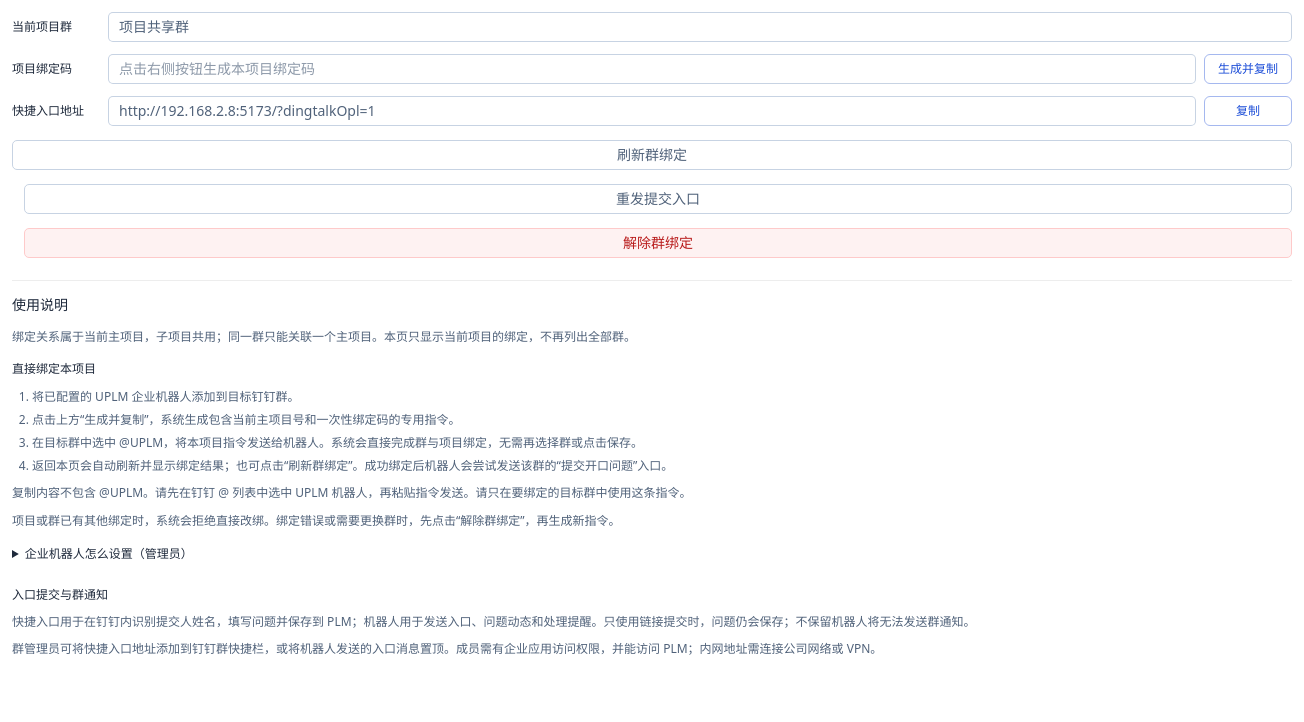
Scenario: generates a project command without exposing or resubmitting its credentials
The width and height of the screenshot is (1304, 722).
Step 1. Click the button "生成并复制" → point(1248, 69), box [1204,54,1292,84]
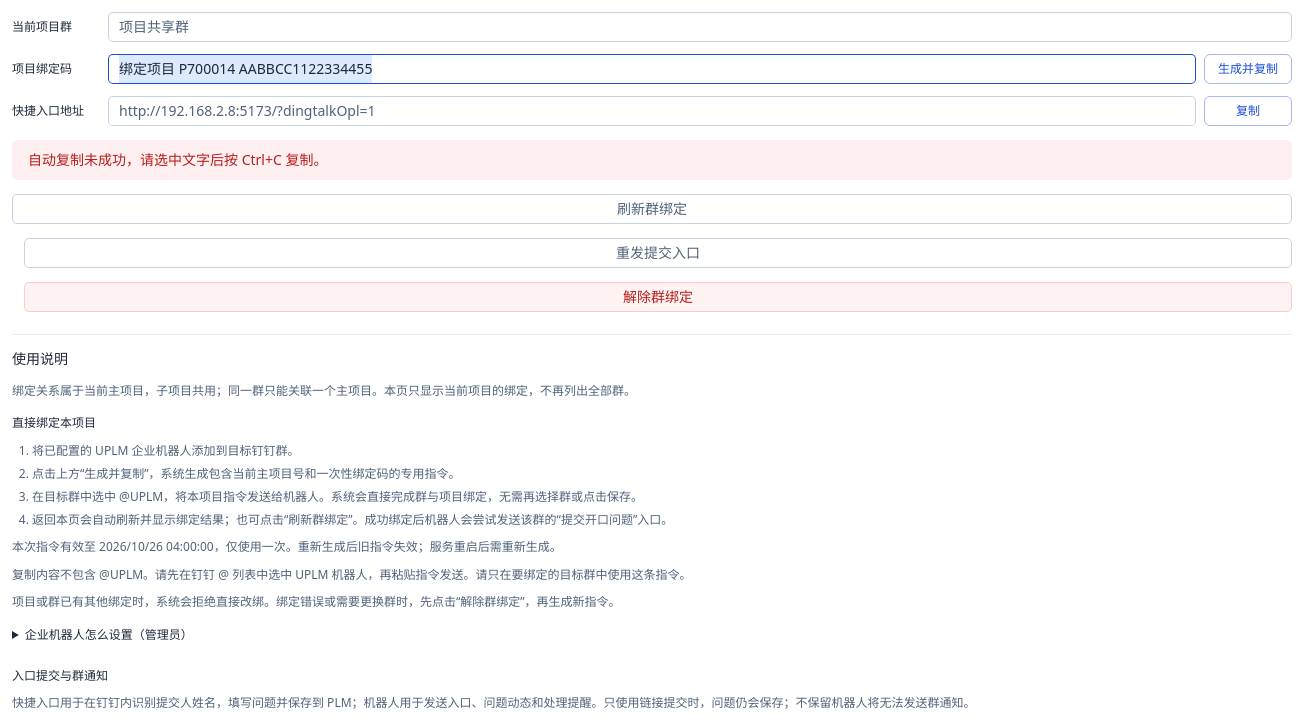
Expected: the field named "项目绑定码" holds "绑定项目 P700014 AABBCC1122334455", [119,55,1185,83]
